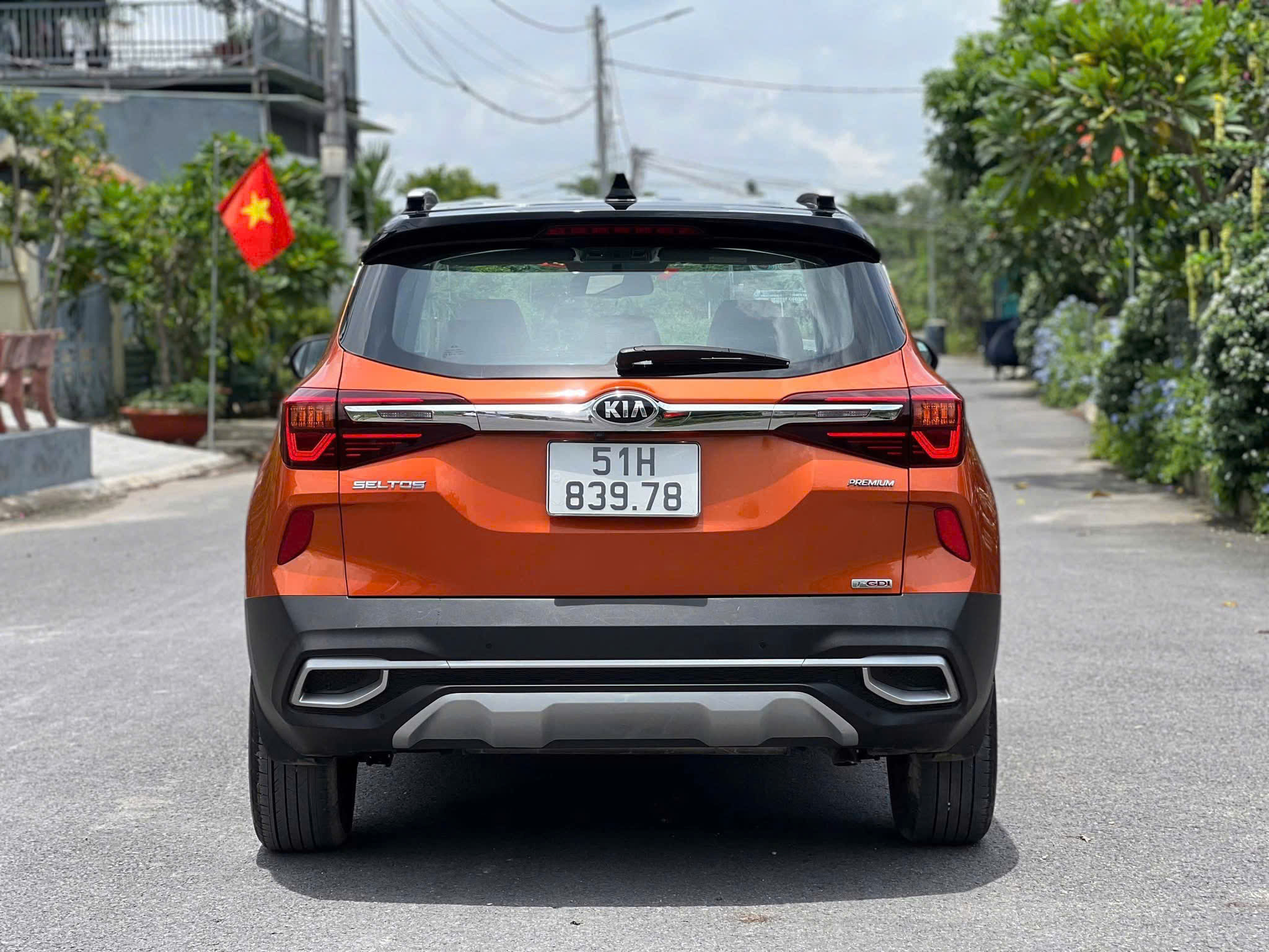Bien-so: (543, 438, 709, 518)
